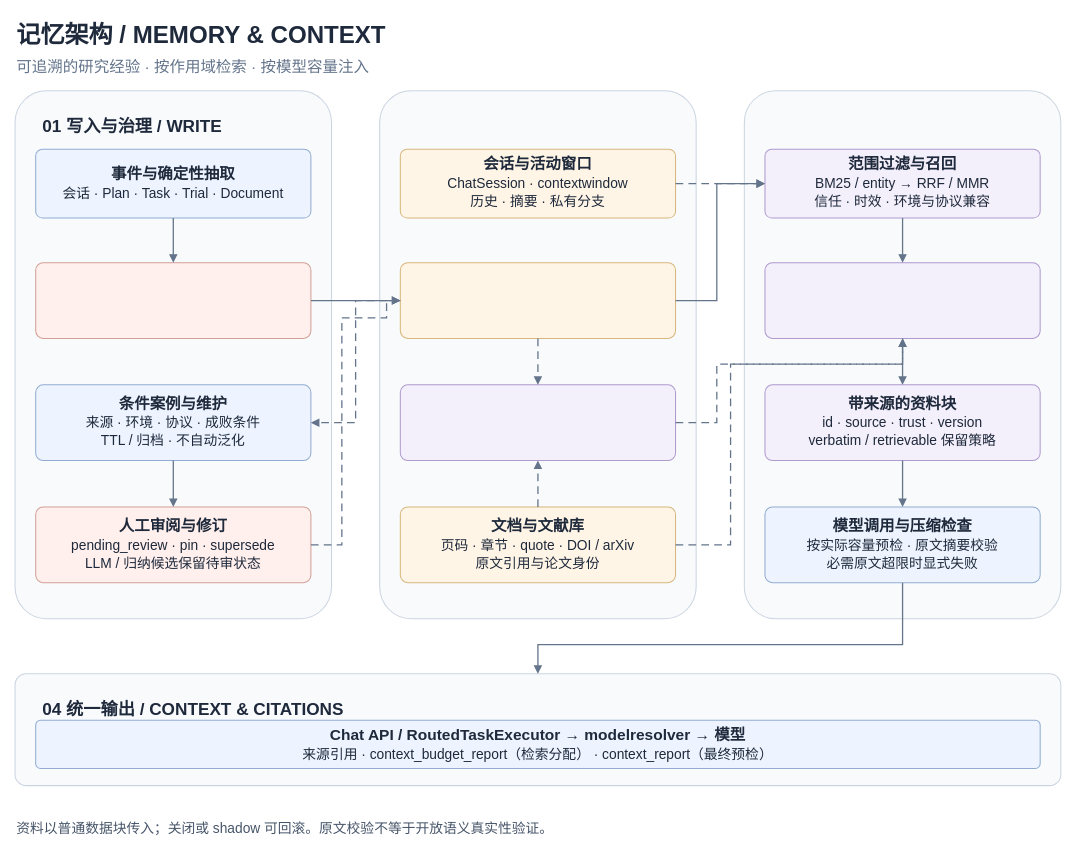
Some shapes in this 1077 by 863 pixel diagram are drawn without their labels. The shapes that lost their labels are listed below. From the top down, each one's box as (x1, y1, x2, y2) in pixels, then its label:
(35, 262, 311, 338): 记录校验与作用域 owner / scope · 脱敏 隐藏评测过滤 · 注入扫描
(399, 262, 676, 338): Memory FileStore WAL + snapshot BM25 / 实体索引
(764, 262, 1040, 338): 共享上下文预算 必需输入 → core → 动态池 召回 / Wiki / 文档 / memory 共用
(379, 90, 696, 619): 02 状态与投影 / STATE
(743, 90, 1061, 619): 03 检索与上下文 / READ
(399, 384, 676, 461): Paper Wiki PaperPage 为可重建投影 Point / Link 来源于 memory.Record
